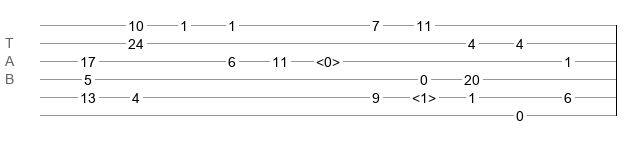0: (420, 72, 428, 82), (516, 108, 524, 118)
1: (180, 18, 188, 28), (228, 18, 236, 28), (468, 90, 476, 100), (564, 54, 572, 64)
10: (128, 18, 144, 28)
11: (272, 54, 288, 64), (416, 18, 432, 28)
13: (80, 90, 96, 100)
17: (80, 54, 96, 64)
20: (464, 72, 480, 82)
24: (128, 36, 144, 46)
4: (132, 90, 140, 100), (468, 36, 476, 46), (516, 36, 524, 46)
5: (84, 72, 92, 82)
6: (228, 54, 236, 64), (564, 90, 572, 100)
7: (372, 18, 380, 28)
9: (372, 90, 380, 100)
harmonic: (316, 54, 340, 64), (412, 90, 436, 100)
